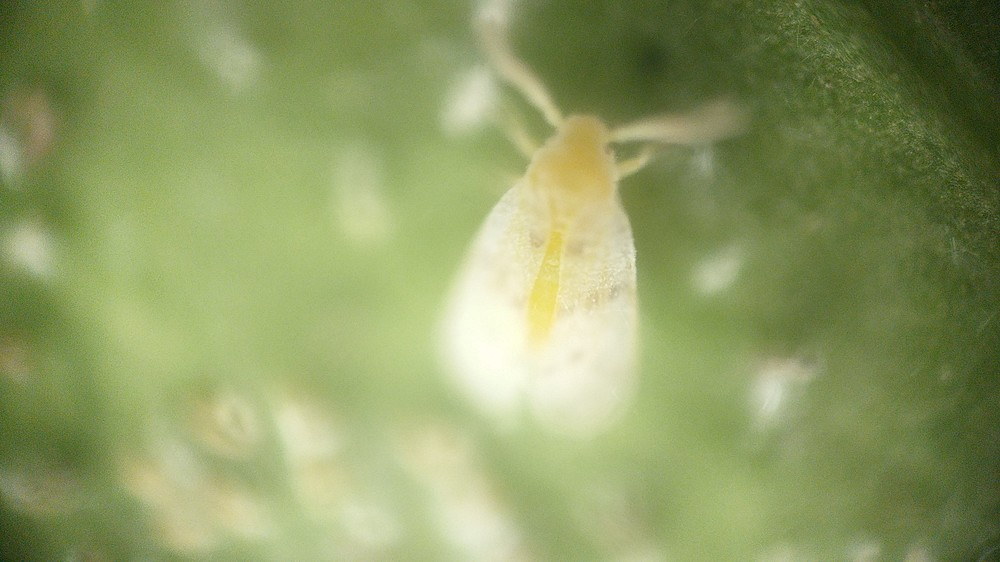Mosca Blanca: (396, 17, 753, 450)
